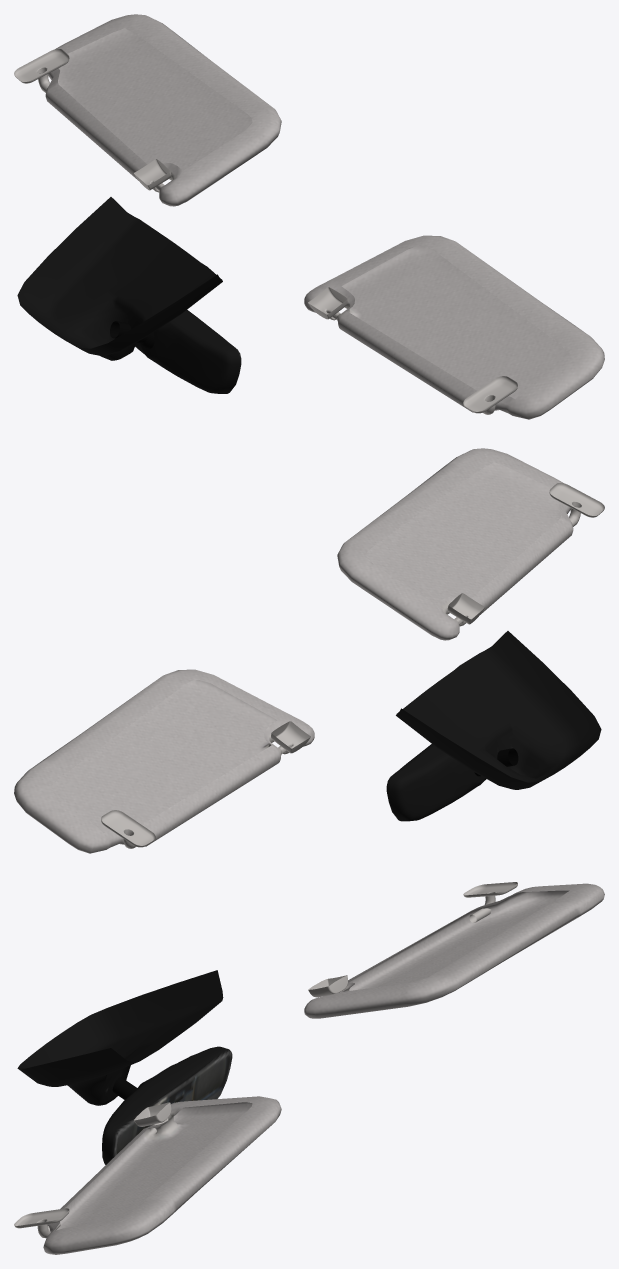
File: SM_Car_YiBiao3.FBX
3 renders of one model, top to bottom at view 1: azimuth 30°, elevation 25°; view 2: azimuth 150°, elevation 25°; view 3: azimuth 330°, elevation 25°, orthographic.
Visible parts, largest first — view 1: houshijing; view 2: houshijing; view 3: houshijing.
Part boxes in pixels (x1,y1,x2,y2): houshijing: (14, 14, 604, 419); houshijing: (14, 448, 604, 853); houshijing: (14, 882, 604, 1254).
Bounding box in the file's own units: 41.85 × 16.62 × 106.
